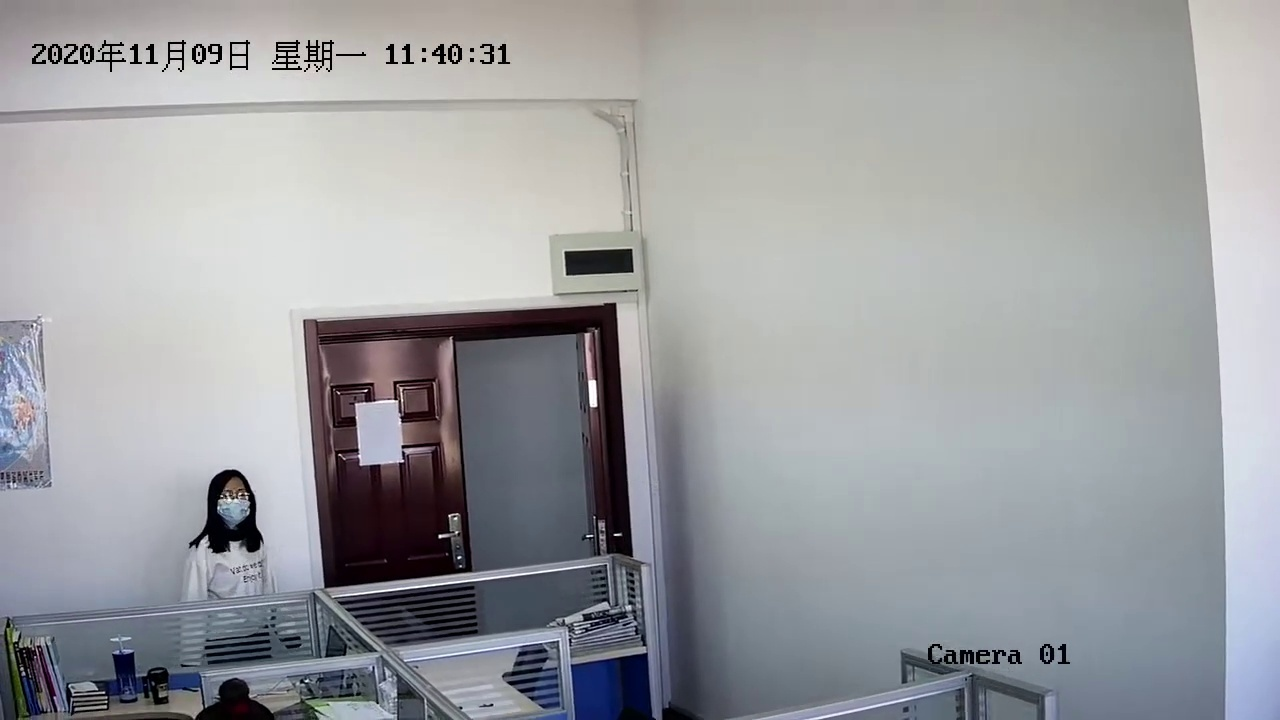mask: (206, 467, 262, 537)
